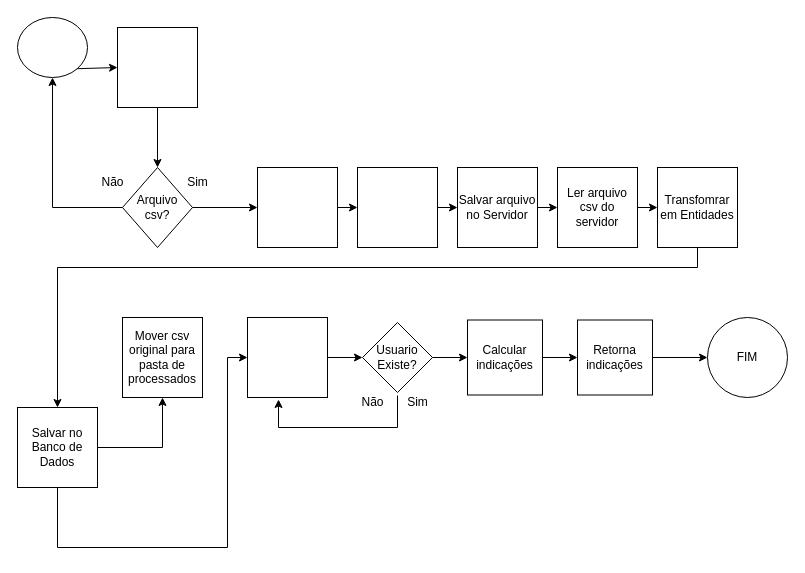
The diagram is 805 pixels wide and 573 high, and some of its shapes have lost their labels. The shapes that lost their labels are listed below. From the top down, each one's centre as x and y in pixels, then its label:
[52,47]: Inicio
[157,67]: Enviar arquivo
[297,207]: Transformar csv em Entidade
[397,207]: Tranformar Entidade em arquivo csv
[287,357]: Consultar Usuario
